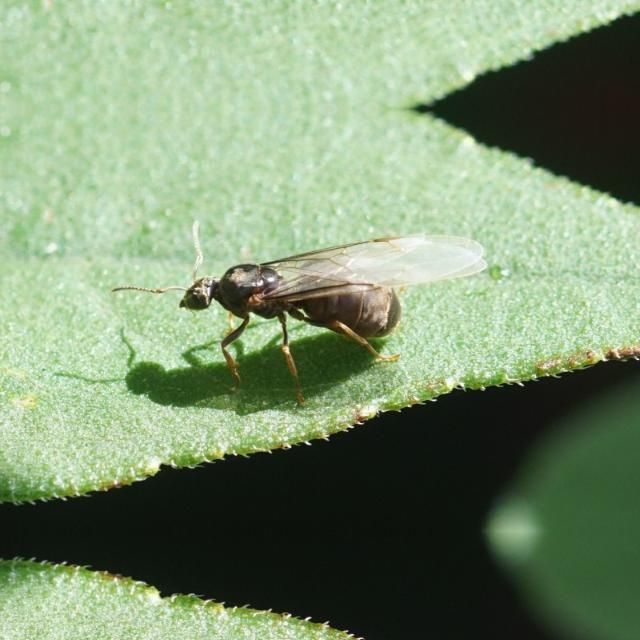Lasius: (132, 212, 460, 368)
